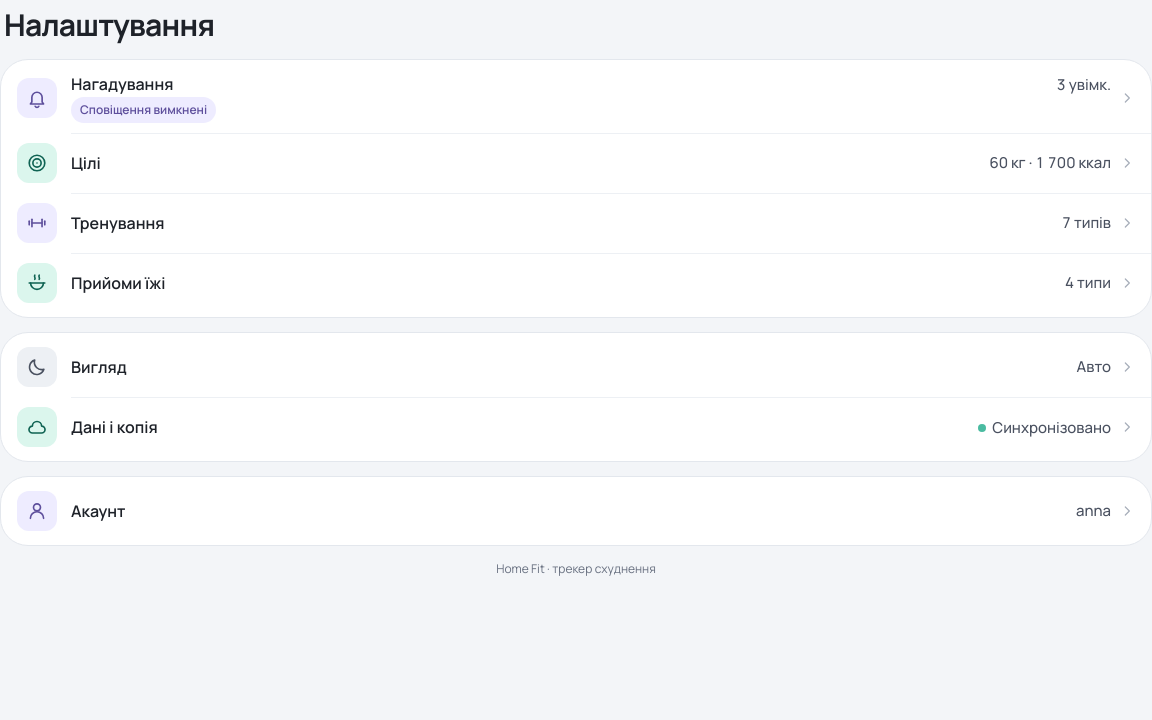
Test: SettingsScreen — the list (phone) › opens «Акаунт» from its row
Click the link "Акаунт anna" at (37, 511), box [1,481,1151,541]
(page scrolled)
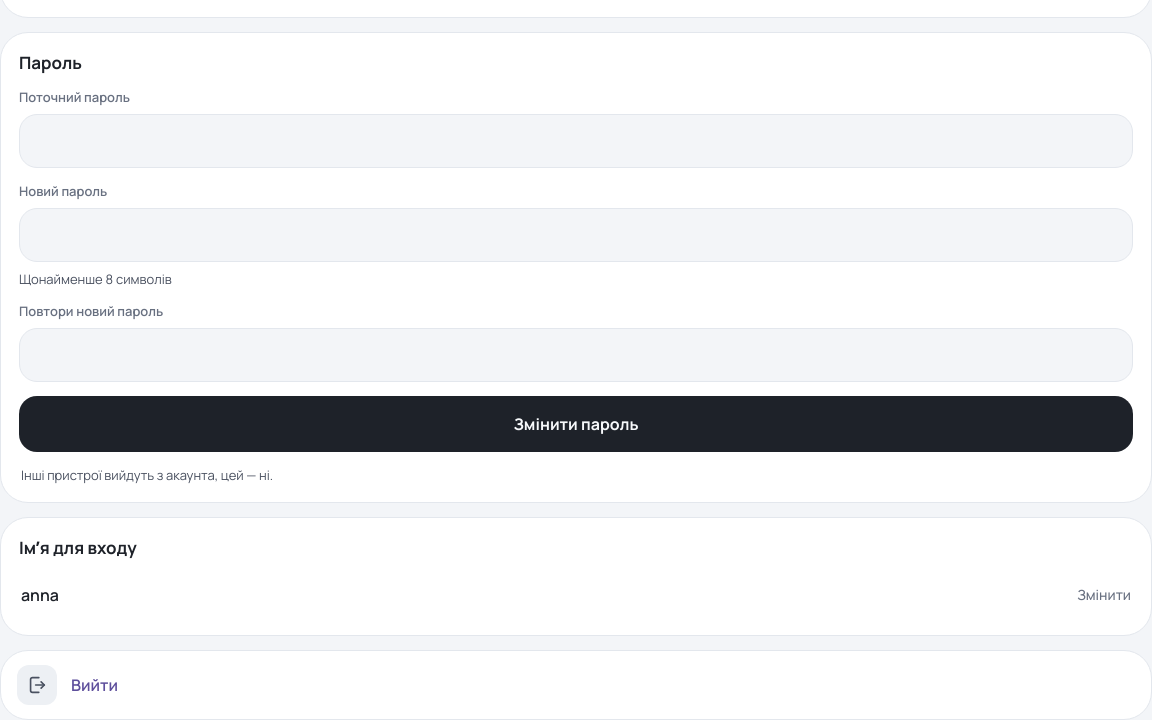
Check: the button "Вийти" is shown, box [1,655,1151,715]
